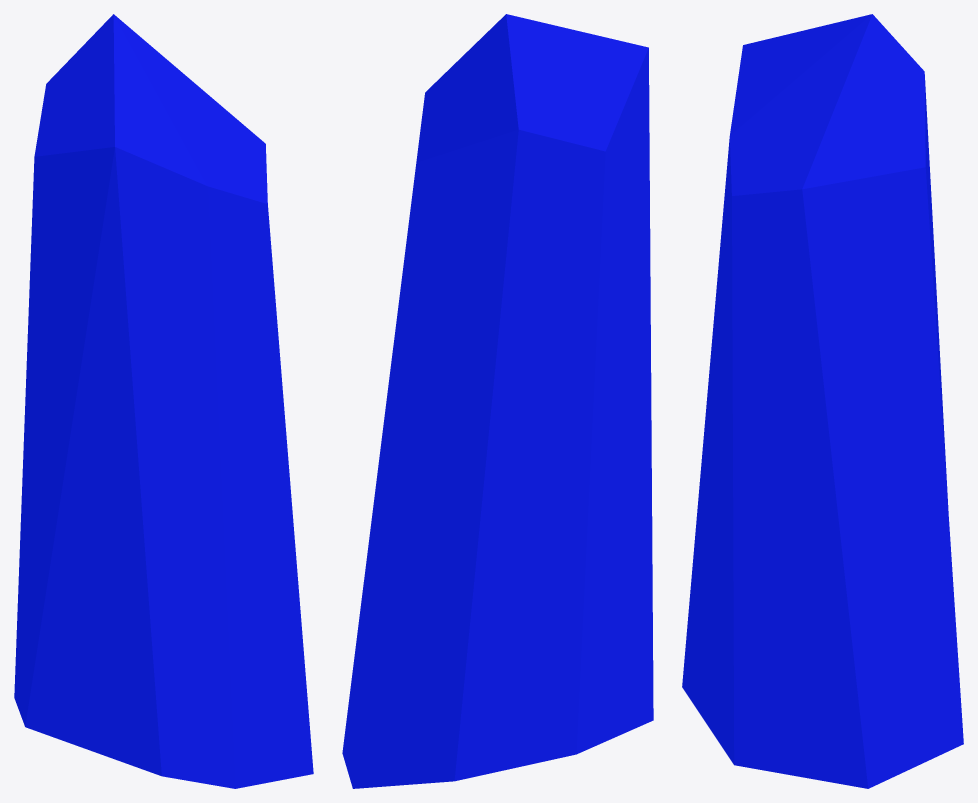
The model's file is crystal3.fbx.
The picture shows the model from 3 angles, left to right: view 1: azimuth 30°, elevation 25°; view 2: azimuth 150°, elevation 25°; view 3: azimuth 270°, elevation 25°; orthographic projection. The views are drawn at different scales.
Parts seen in each view (by area): view 1: crystal3; view 2: crystal3; view 3: crystal3.
Boxes of the visible parts, x1=… form: crystal3: x1=14, y1=14, x2=313, y2=788; crystal3: x1=342, y1=14, x2=653, y2=788; crystal3: x1=682, y1=14, x2=963, y2=788.
Size of the model in its own units: 257 by 671 by 244.
